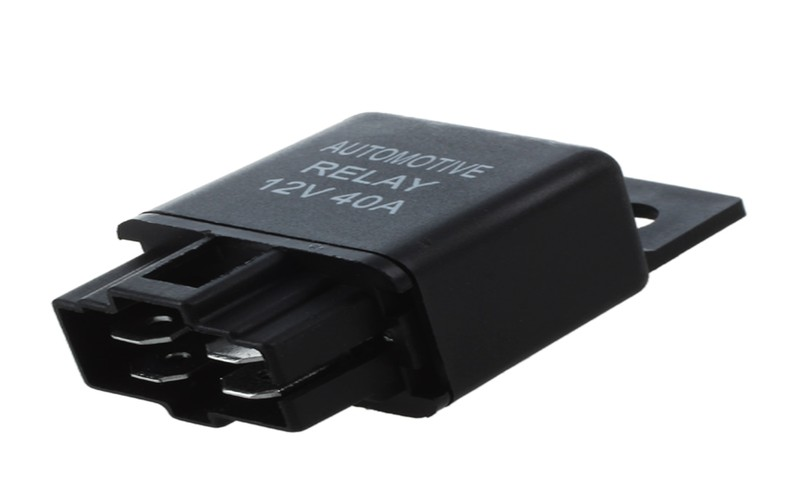Switches: (37, 57, 748, 438)
